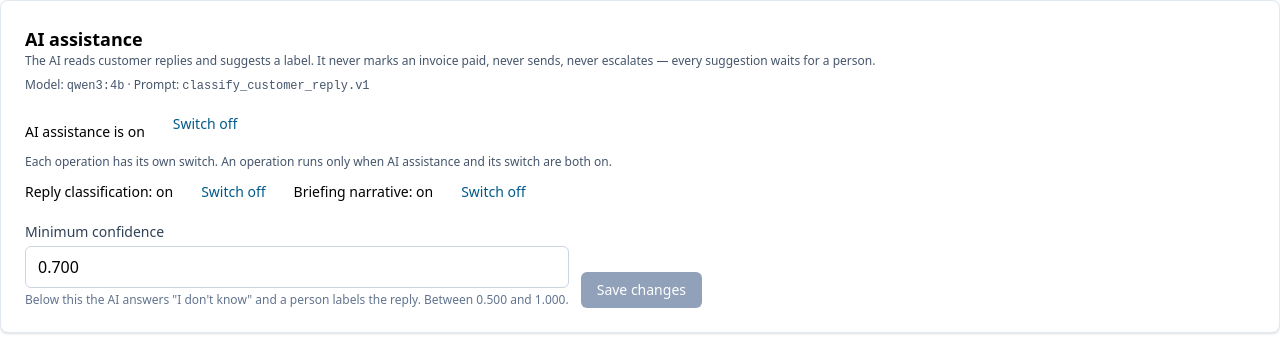
Test: AI review (slice 9 AC-16) › exposes the kill switch and the threshold, and nothing that sends or approves on its own
Check: the element with test id "ai-model" shows "qwen3:4b", box [67,79,124,93]
Click the button with test id "toggle-ai" at (205, 124), box [157,106,253,142]
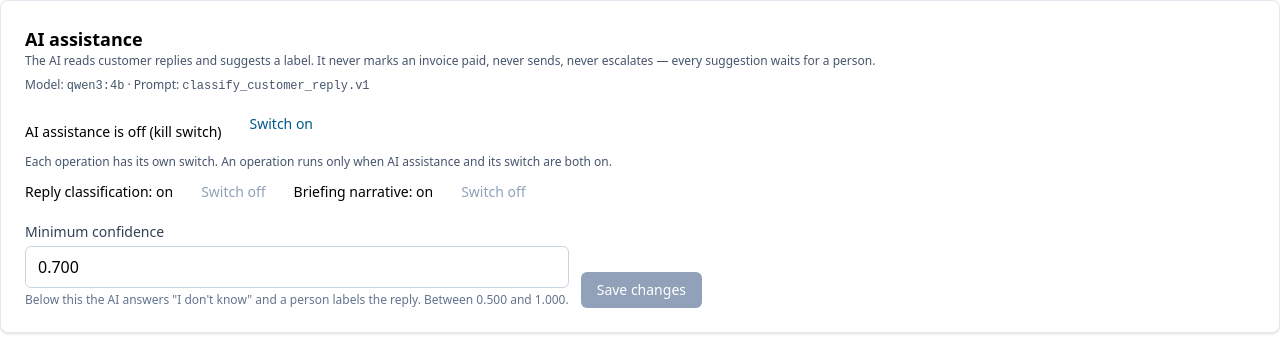
Check: the button with test id "toggle-ai-classification" is disabled, box [185,174,282,210]
Check: the button with test id "toggle-ai-briefing" is disabled, box [445,174,542,210]
